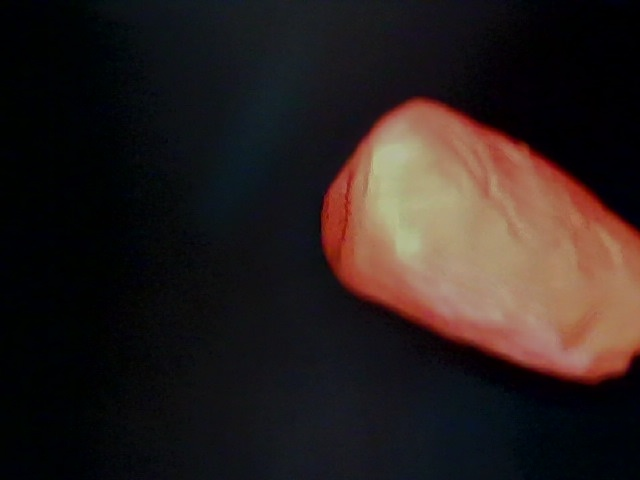YHLJ: (356, 174, 472, 247)
